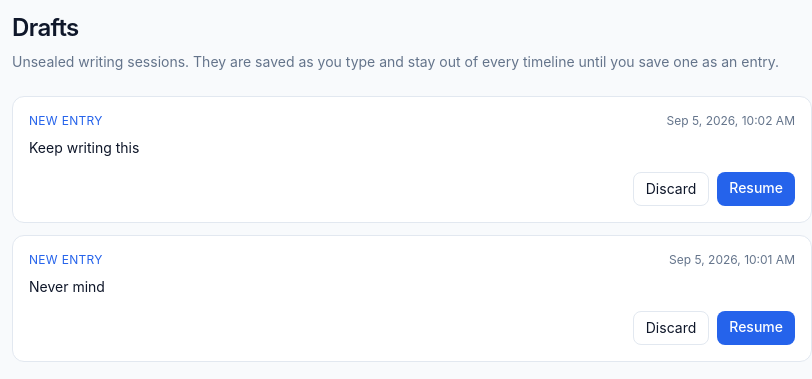
DraftsView › discards the draft it is asked to, leaving the rest listed
The width and height of the screenshot is (812, 379).
Expected: the text "Never mind" is shown, [29,278,105,295]
Click the button "Discard" below "Sep 5, 2026, 10:01 AM": (672, 328) [633,311,710,345]
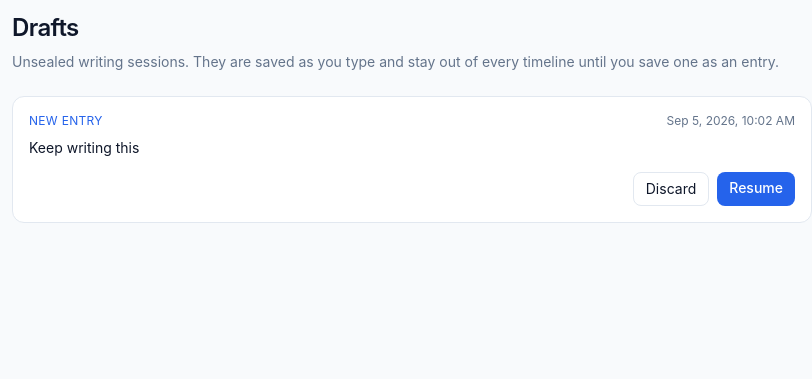
Expected: the text "Keep writing this" is shown, [29,139,139,156]
Result: the text "Never mind" is gone
